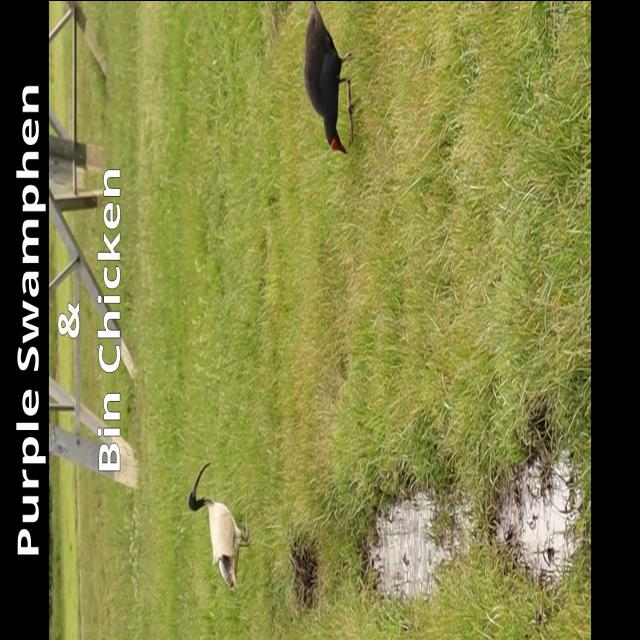Birds-Ibis: (186, 454, 253, 594)
Birds-Other: (298, 2, 358, 160)
